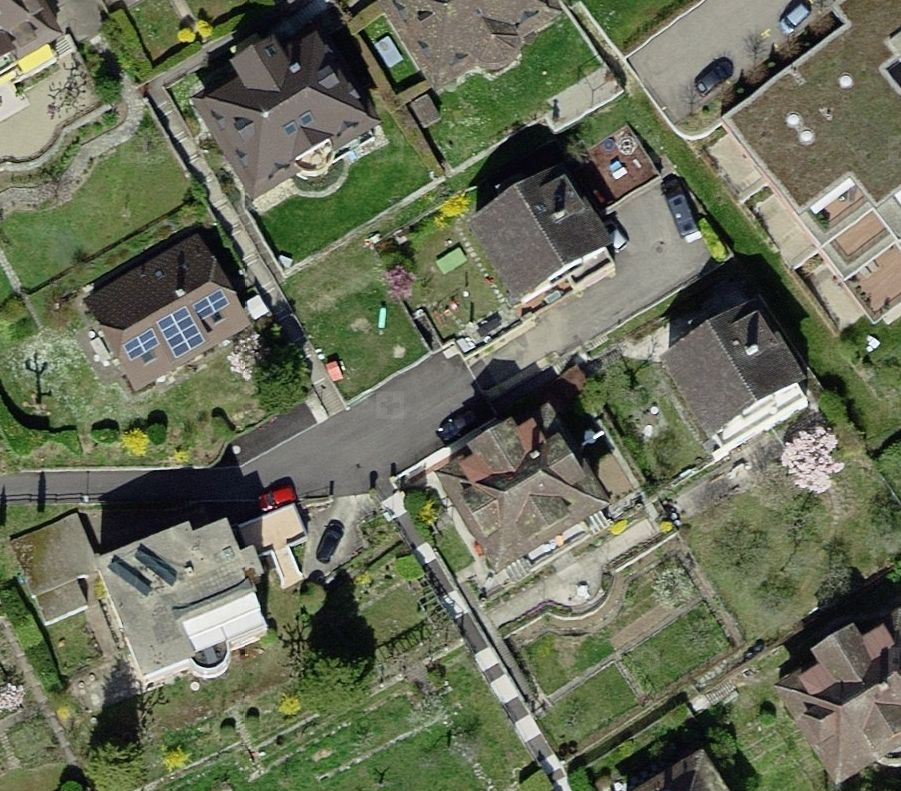solar: (119, 289, 230, 361), (99, 541, 183, 603)
